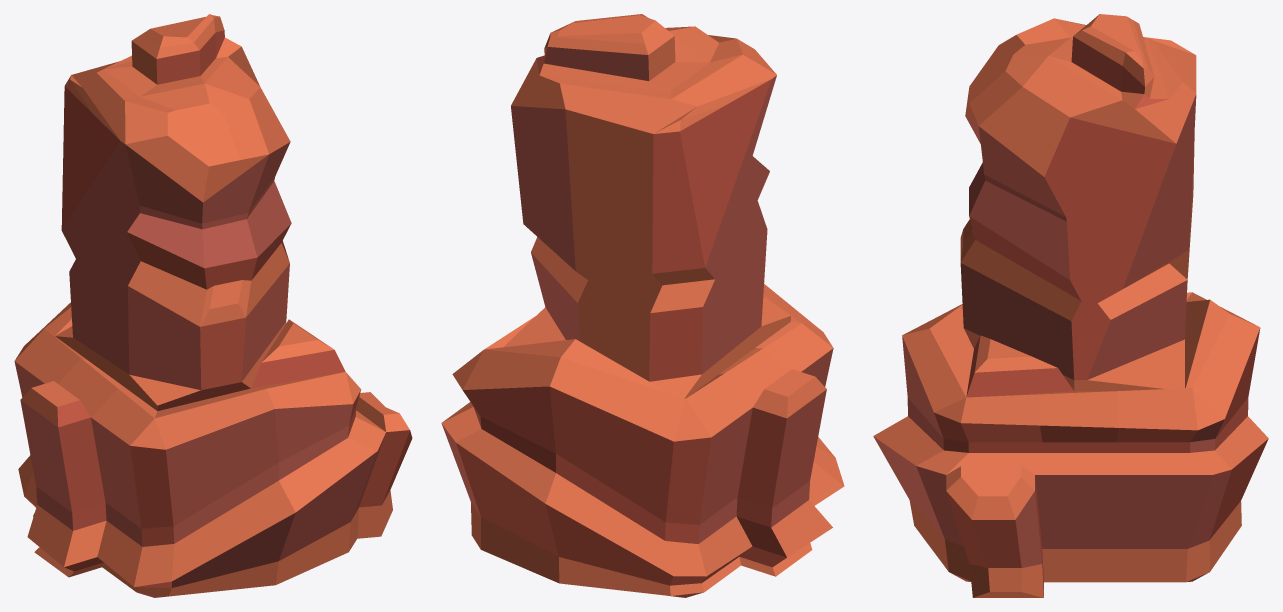
The model's file is big stone.fbx.
The picture shows the model from 3 angles, left to right: view 1: azimuth 30°, elevation 25°; view 2: azimuth 150°, elevation 25°; view 3: azimuth 270°, elevation 25°; orthographic projection. The views are drawn at different scales.
Visible parts, largest first — view 1: Cube.001; view 2: Cube.001; view 3: Cube.001.
Boxes of the visible parts, x1,y1,x2,y2 form: Cube.001: (14, 14, 412, 597); Cube.001: (441, 14, 844, 597); Cube.001: (873, 14, 1268, 597).
Size of the model in its own units: 1414 by 2092 by 1473.
